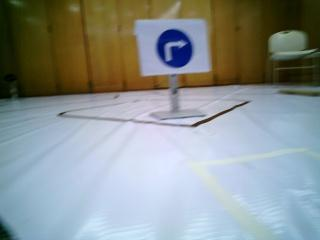right: (140, 20, 208, 69)
